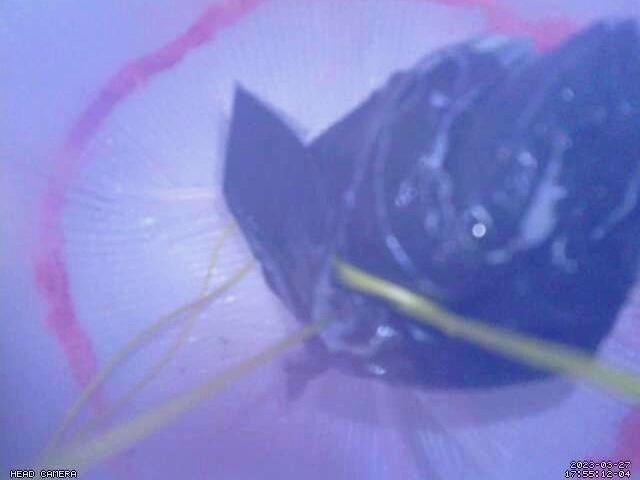head: (30, 0, 640, 480)
